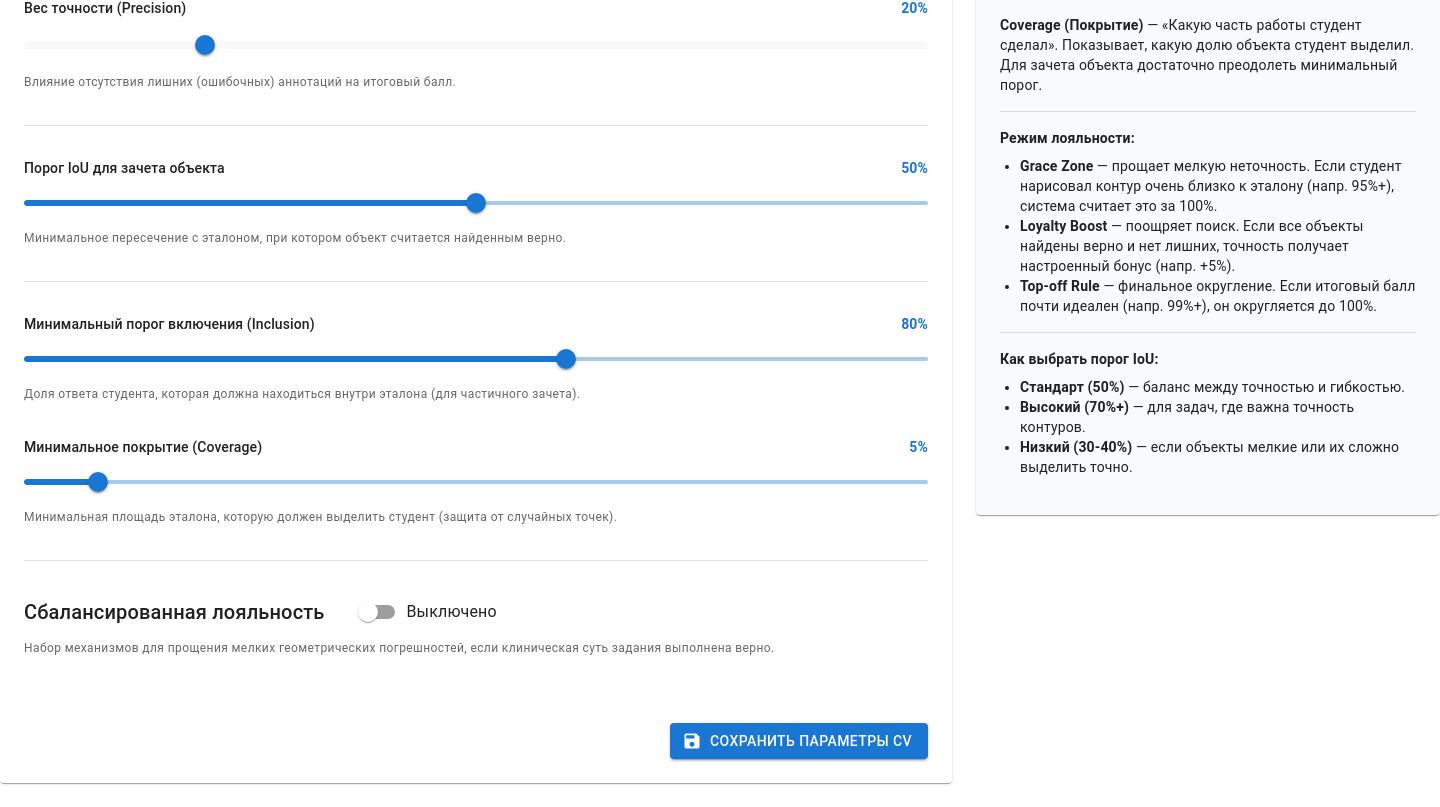
Scenario: CVSettings (Настройки CV) › should toggle loyalty mode and show/hide options
The image size is (1440, 807).
(page scrolled)
Expected: the heading "Сбалансированная лояльность" is shown, [24,596,324,628]
Expected: the text "Порог «идеальной точности»" is not shown
Click the checkbox labelled "Выключено" at (427,612), box [358,602,497,622]
(page scrolled)
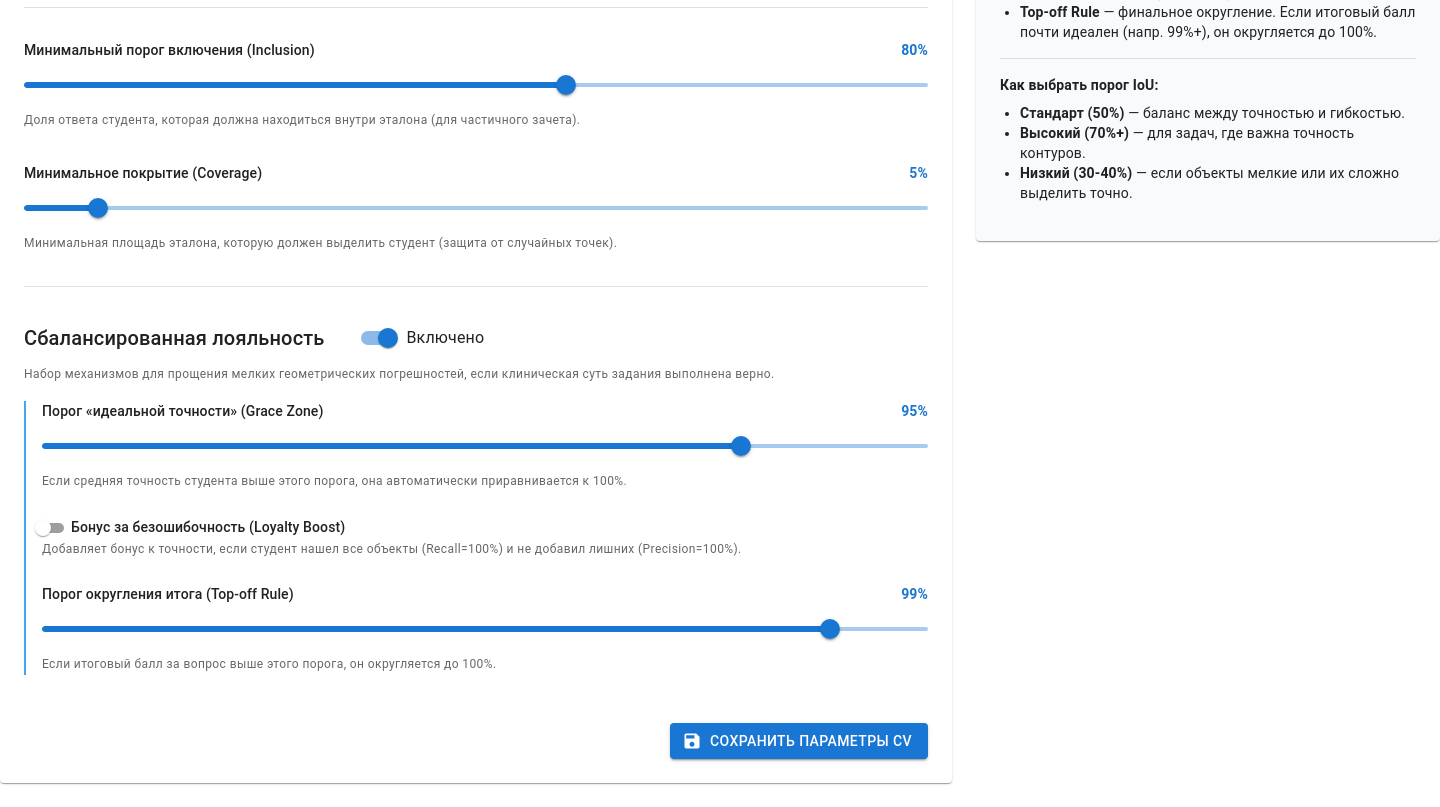
Now the heading "Порог «идеальной точности» (Grace Zone)" is shown, box [42,401,324,423]
Now the heading "Бонус за безошибочность (Loyalty Boost)" is shown, box [71,517,345,539]
Now the heading "Порог округления итога (Top-off Rule)" is shown, box [42,584,294,606]
